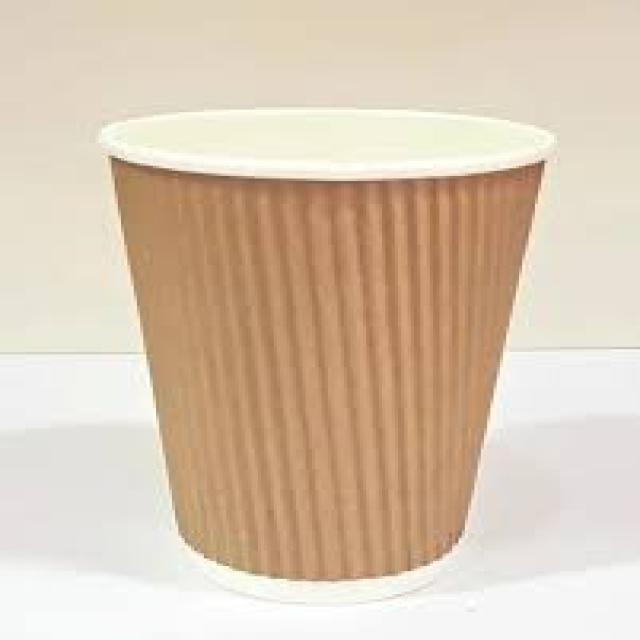PaperCardboard: (103, 105, 553, 606)
